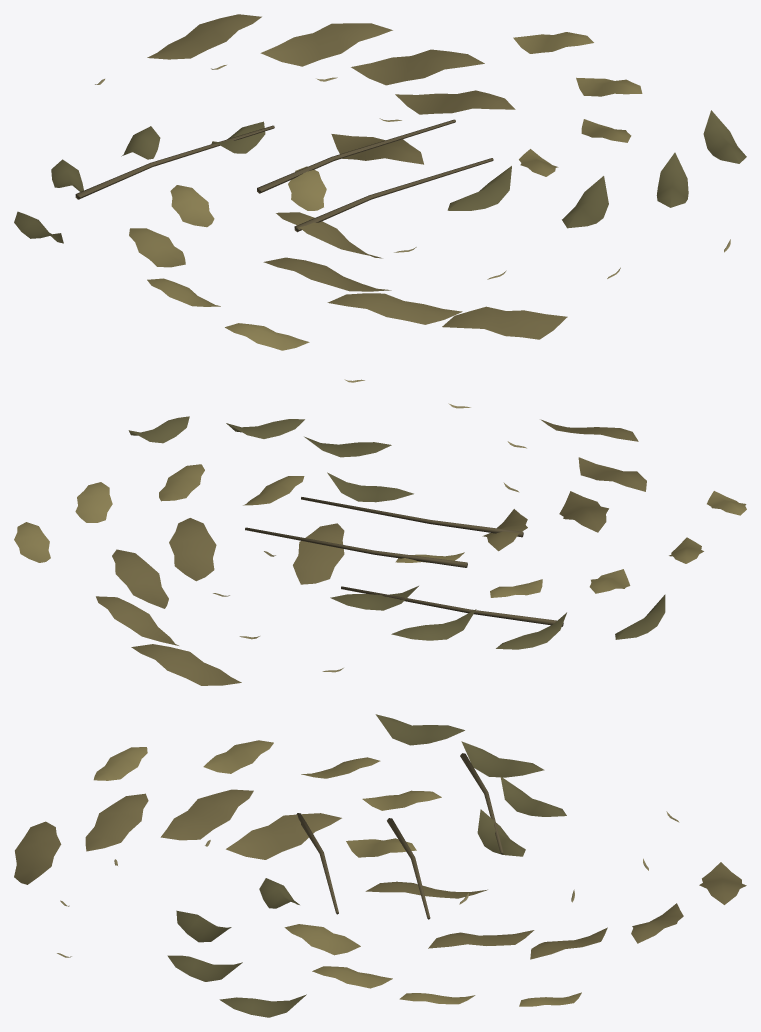
Rendered from Litiere_0.fbx.
3 renders of one model, top to bottom at view 1: azimuth 30°, elevation 25°; view 2: azimuth 150°, elevation 25°; view 3: azimuth 270°, elevation 25°, orthographic. The views are drawn at different scales.
Visible parts, largest first — view 1: Litiere_0; view 2: Litiere_0; view 3: Litiere_0.
Boxes of the visible parts, <box> form: Litiere_0: <box>14,14,746,350</box>; Litiere_0: <box>14,379,746,685</box>; Litiere_0: <box>14,714,746,1017</box>.
Size of the model in its own units: 43.69 by 2.4 by 46.86.
